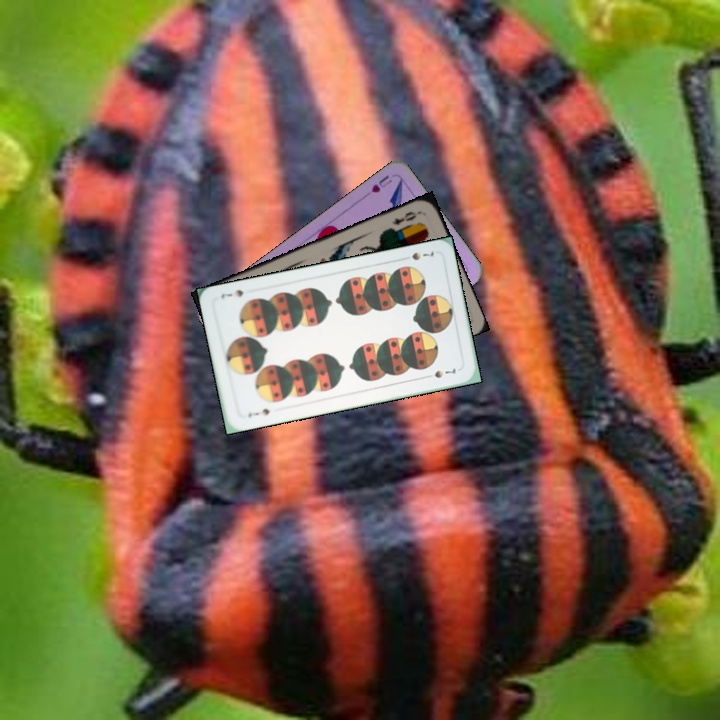EO: (388, 207, 423, 228)
HU: (367, 171, 395, 195)
S7: (408, 247, 436, 263), (244, 404, 272, 420)
